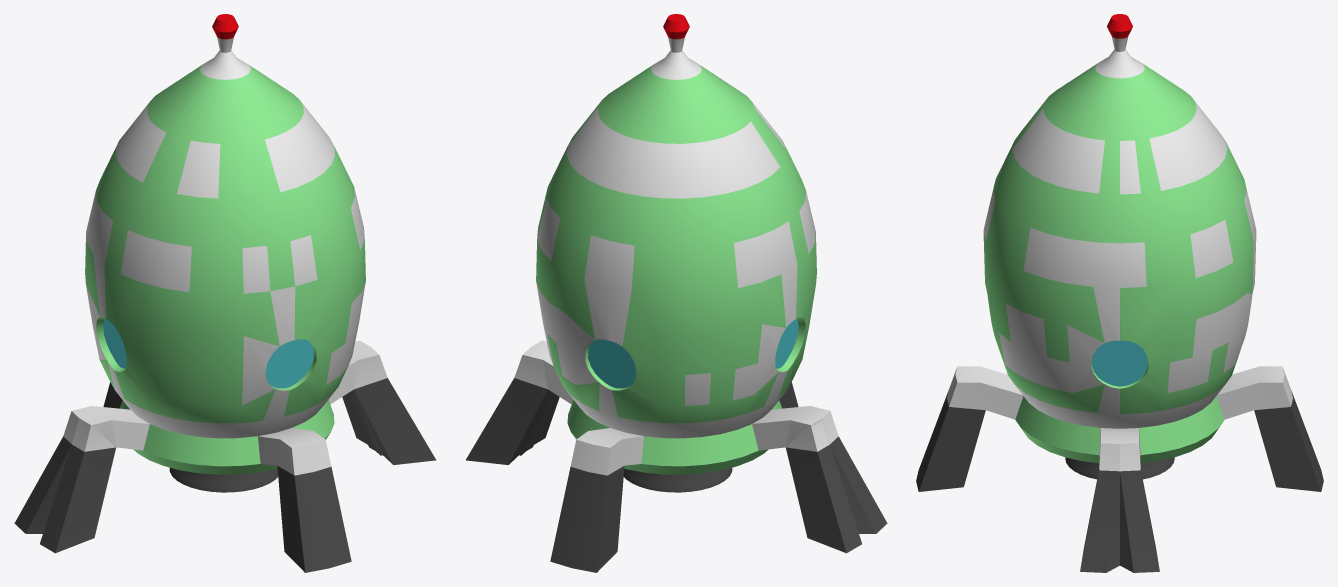
File: RocketShip.fbx
The picture shows the model from 3 angles, left to right: view 1: azimuth 30°, elevation 25°; view 2: azimuth 150°, elevation 25°; view 3: azimuth 270°, elevation 25°; orthographic projection. The views are drawn at different scales.
Parts seen in each view (by area): view 1: RocketShip; view 2: RocketShip; view 3: RocketShip.
Part boxes in pixels (<box>): RocketShip: <box>14,14,435,572</box>; RocketShip: <box>466,14,887,572</box>; RocketShip: <box>916,14,1323,572</box>.
Size of the model in its own units: 476 by 559 by 446.
